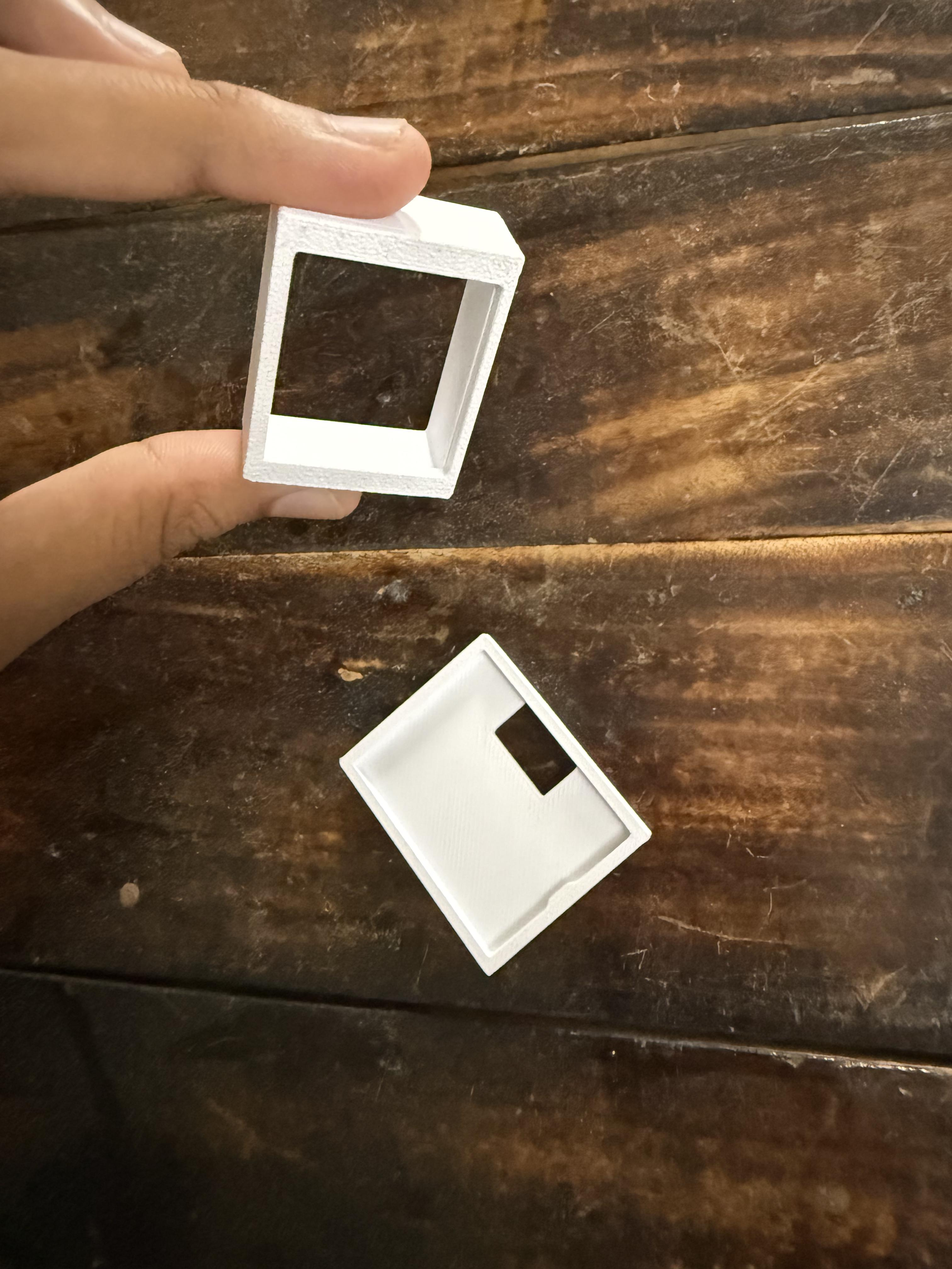enclosure: (339, 633, 652, 977), (242, 194, 526, 499)
